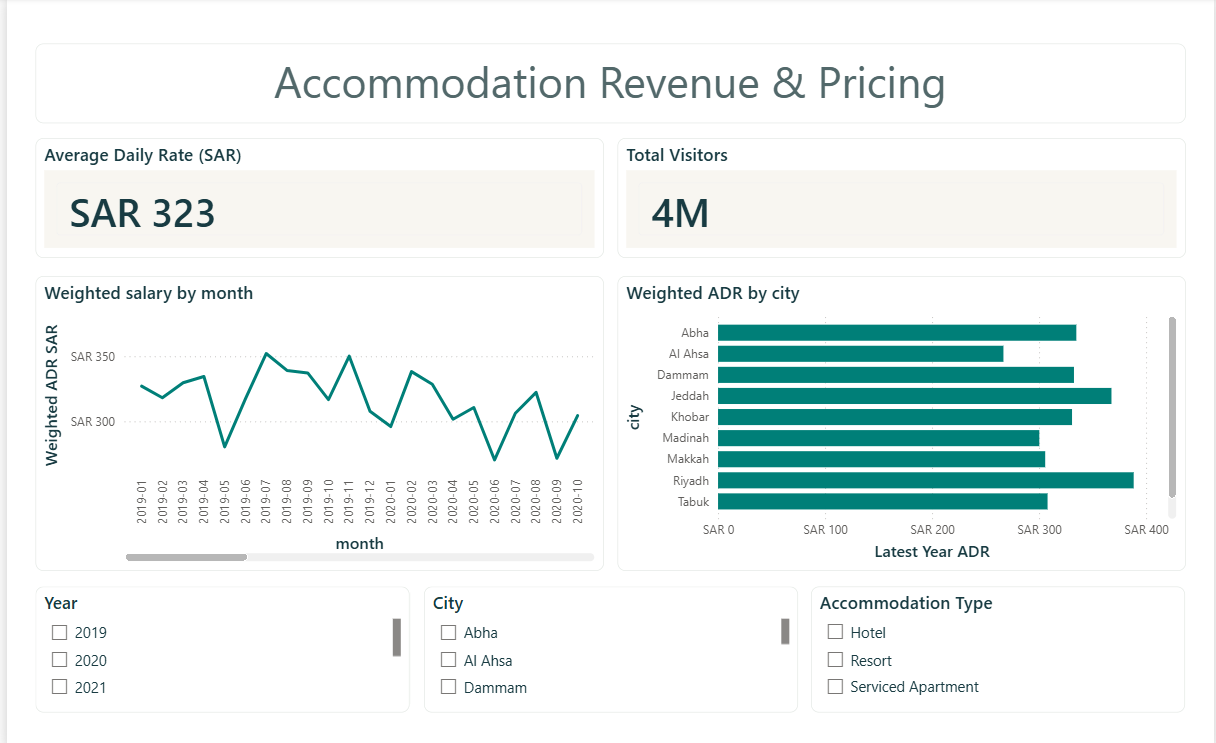

The dashboard page shown, as its layout file describes it:
{"tool":"powerbi","page":{"name":"Accommodation Revenue & Pricing","canvas":[1200,720],"ordinal":2},"visuals":[{"type":"textbox","box":[28,17,1144,79],"z":1000},{"type":"cardVisual","title":"Average Daily Rate (SAR)","fields":{"Data":["Tourism.Latest Year ADR"]},"box":[28,111,565,119],"z":1000},{"type":"cardVisual","title":"Total Visitors","fields":{"Data":["Tourism.Latest Year Visitors"]},"box":[607,111,565,119],"z":1000},{"type":"lineChart","title":"Weighted salary by month","fields":{"Category":["Tourism.month"],"Y":["Tourism.Weighted ADR SAR"]},"box":[28,247,565,293],"z":1000},{"type":"clusteredBarChart","title":"Weighted ADR by city","fields":{"Category":["Tourism.city"],"Y":["Tourism.Latest Year ADR"]},"box":[607,247,565,293],"z":1000},{"type":"slicer","title":"Year","fields":{"Values":["Tourism.Year"]},"box":[28,557,372,125],"z":1000},{"type":"slicer","title":"City","fields":{"Values":["Tourism.city"]},"box":[414,557,372,125],"z":1000},{"type":"slicer","title":"Accommodation Type","fields":{"Values":["Tourism.accommodation_type"]},"box":[800,557,372,125],"z":1000}]}

Visuals, with their boxes in screenshot pixels (x1, y1, x2, y2), scaled from the page's 1200x720 canvas onto the 1216x743 screenshot:
textbox: [28, 18, 1188, 99]
"Average Daily Rate (SAR)" cardVisual: [28, 115, 601, 237]
"Total Visitors" cardVisual: [615, 115, 1188, 237]
"Weighted salary by month" lineChart: [28, 255, 601, 557]
"Weighted ADR by city" clusteredBarChart: [615, 255, 1188, 557]
"Year" slicer: [28, 575, 405, 704]
"City" slicer: [420, 575, 796, 704]
"Accommodation Type" slicer: [811, 575, 1188, 704]
